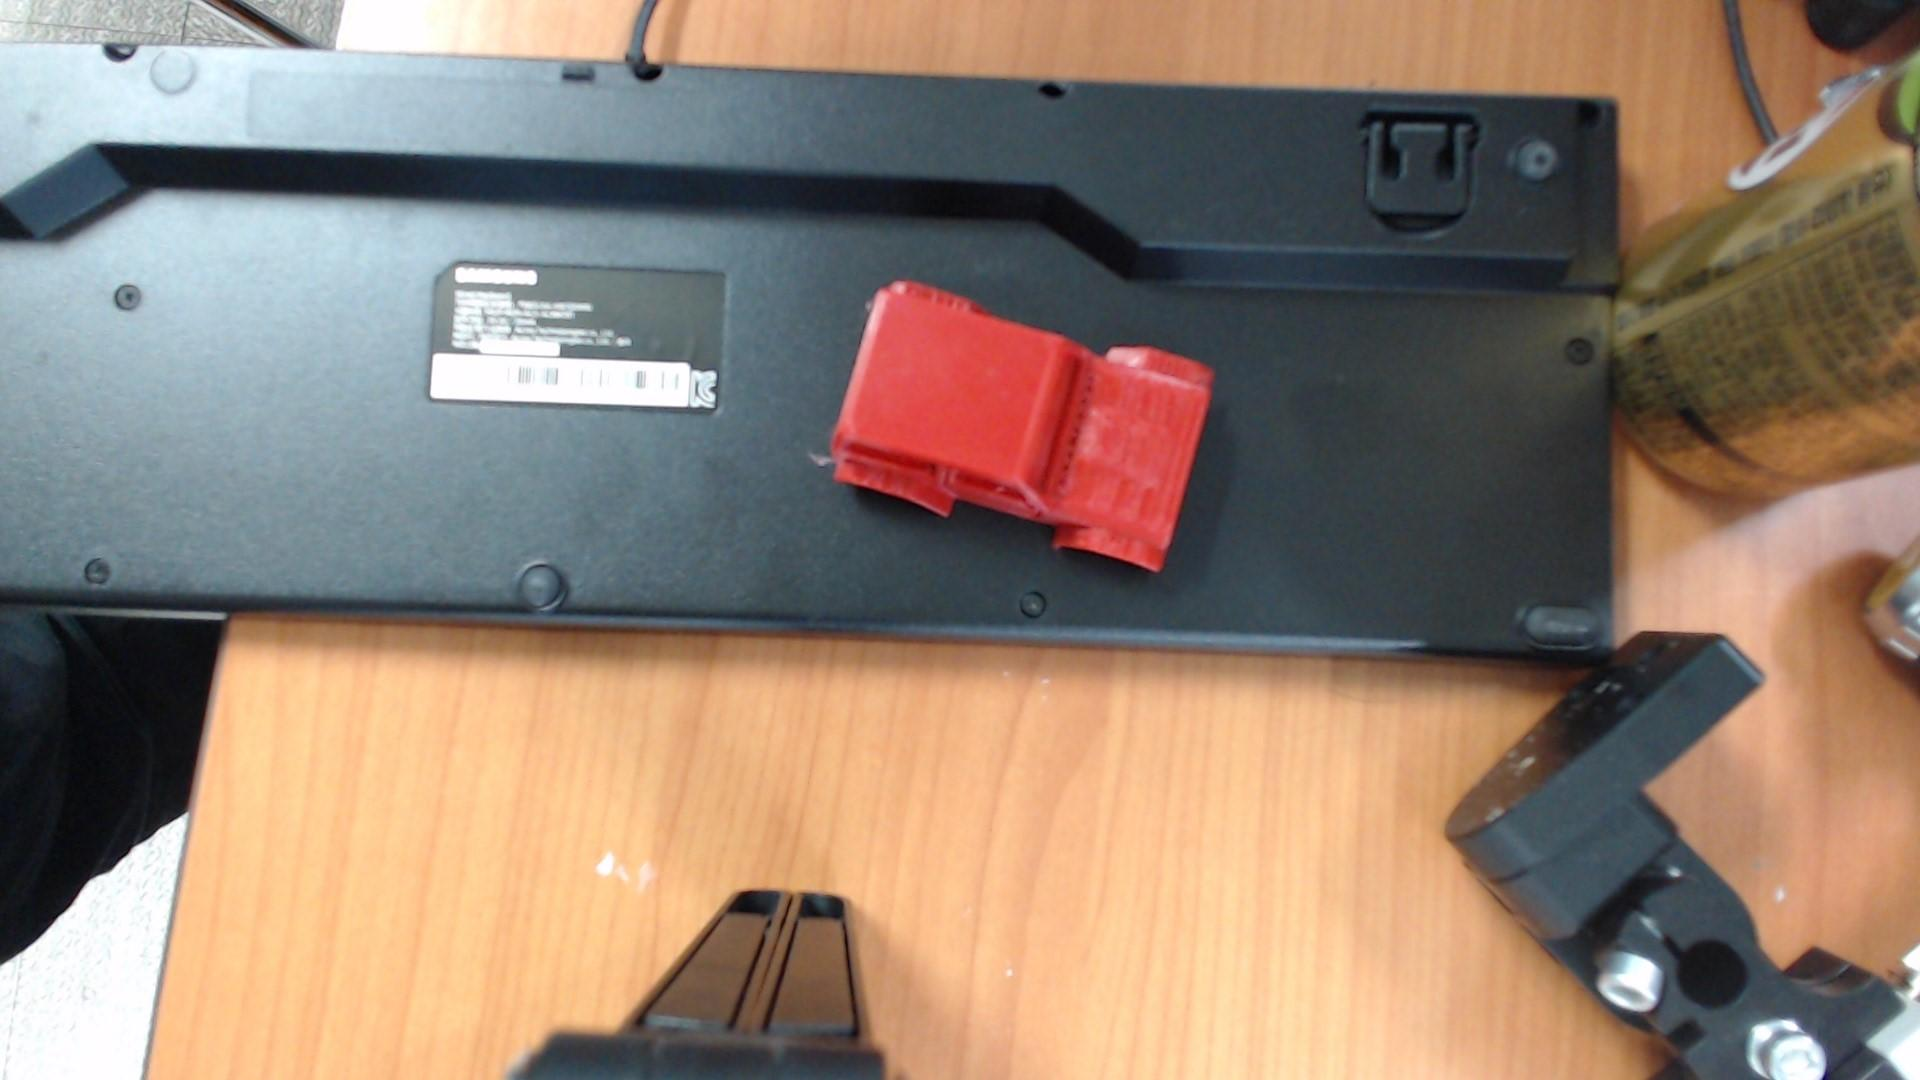Upper_ok: (831, 281, 1213, 571)
